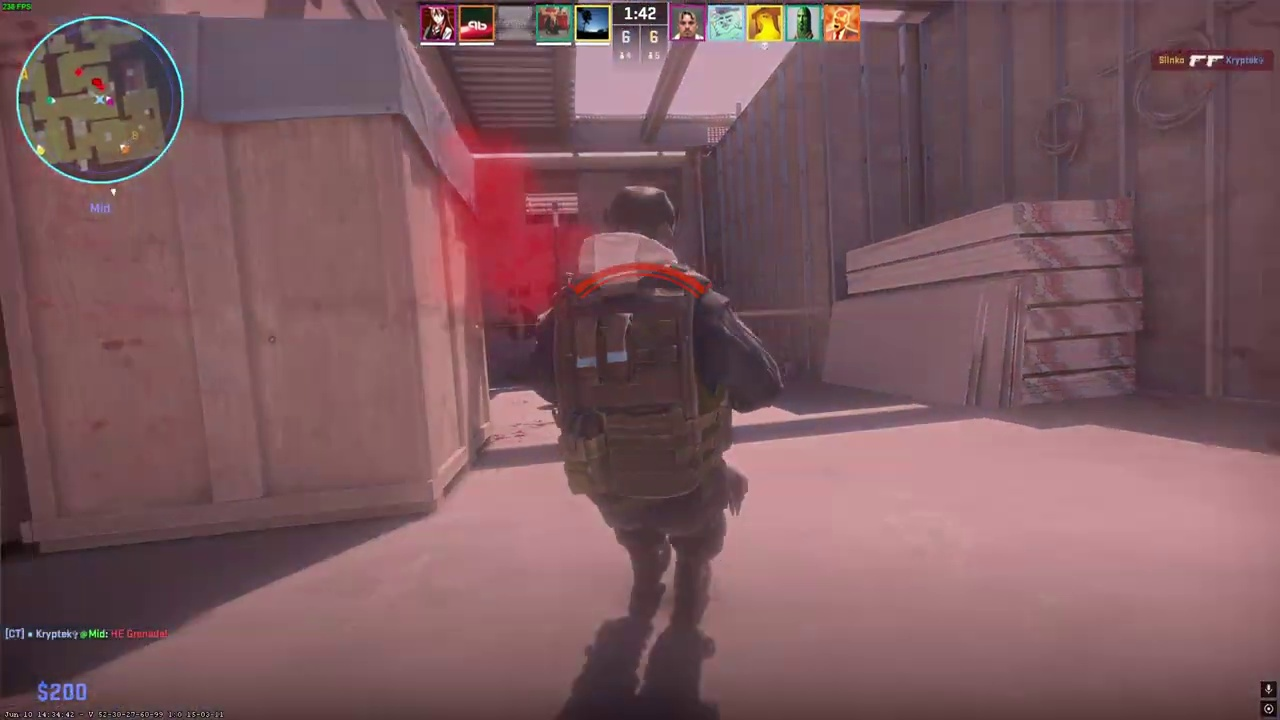CT: (530, 183, 766, 720)
